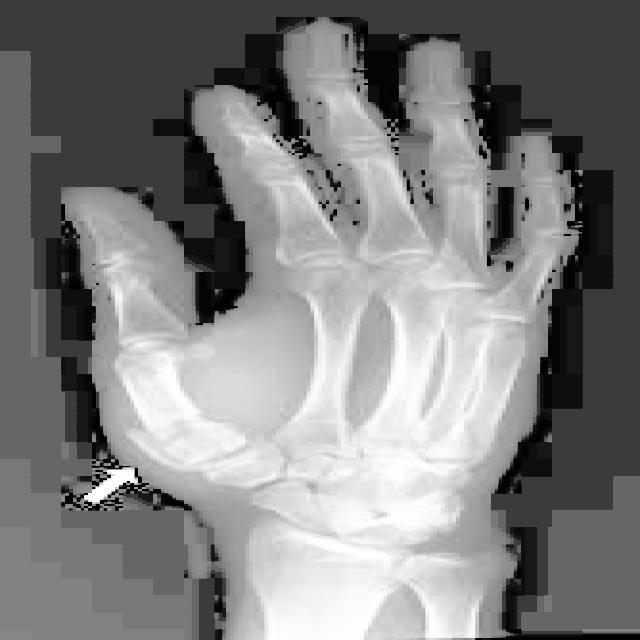Comminuted Fracture: (118, 420, 194, 472)
